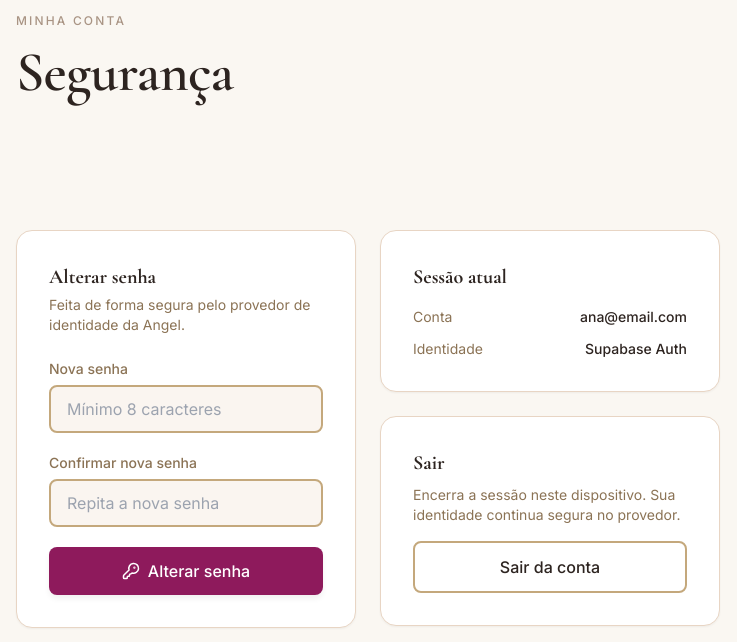
Test case: SegurancaPage › recusa senha curta antes do provedor
Type "curta" into the password field labelled "Nova senha".
click(186, 409); type("curta")  # box [49,385,323,433]
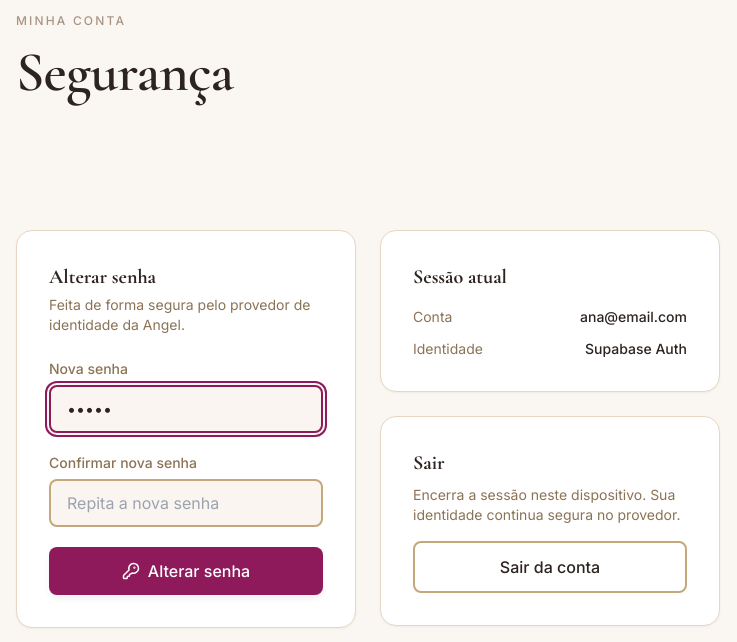
Type "curta" into the password field labelled "Confirmar nova senha".
click(186, 503); type("curta")  # box [49,479,323,527]
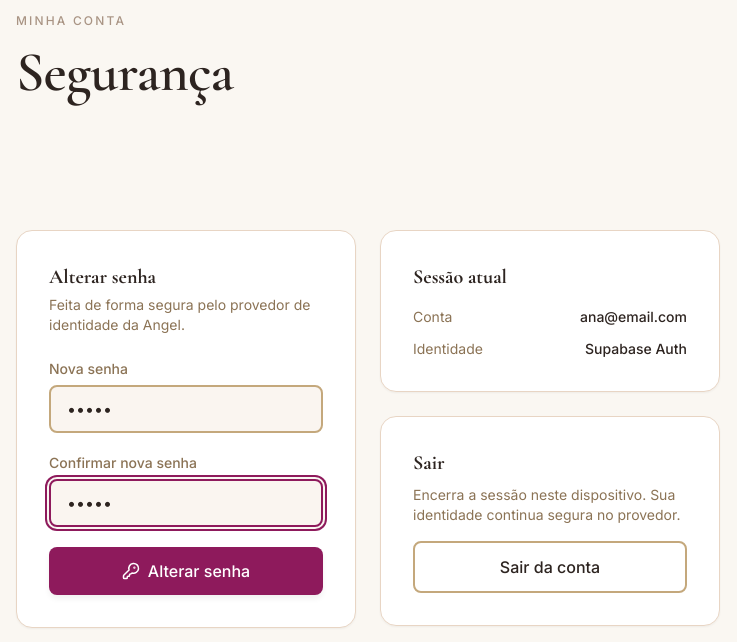
Click the button "Alterar senha".
click(186, 571)  # box [49,547,323,595]
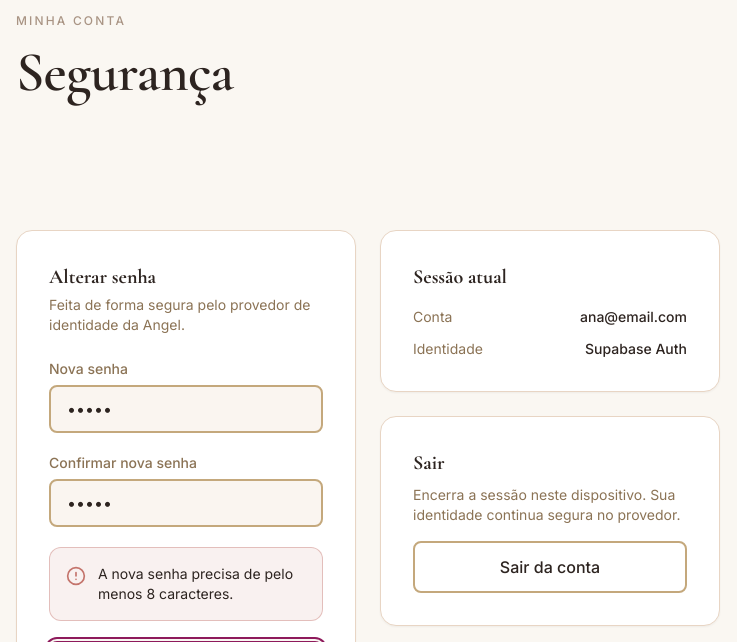
expect the text "A nova senha precisa de pelo menos 8 caracteres." is shown: met, box [98,564,306,604]
